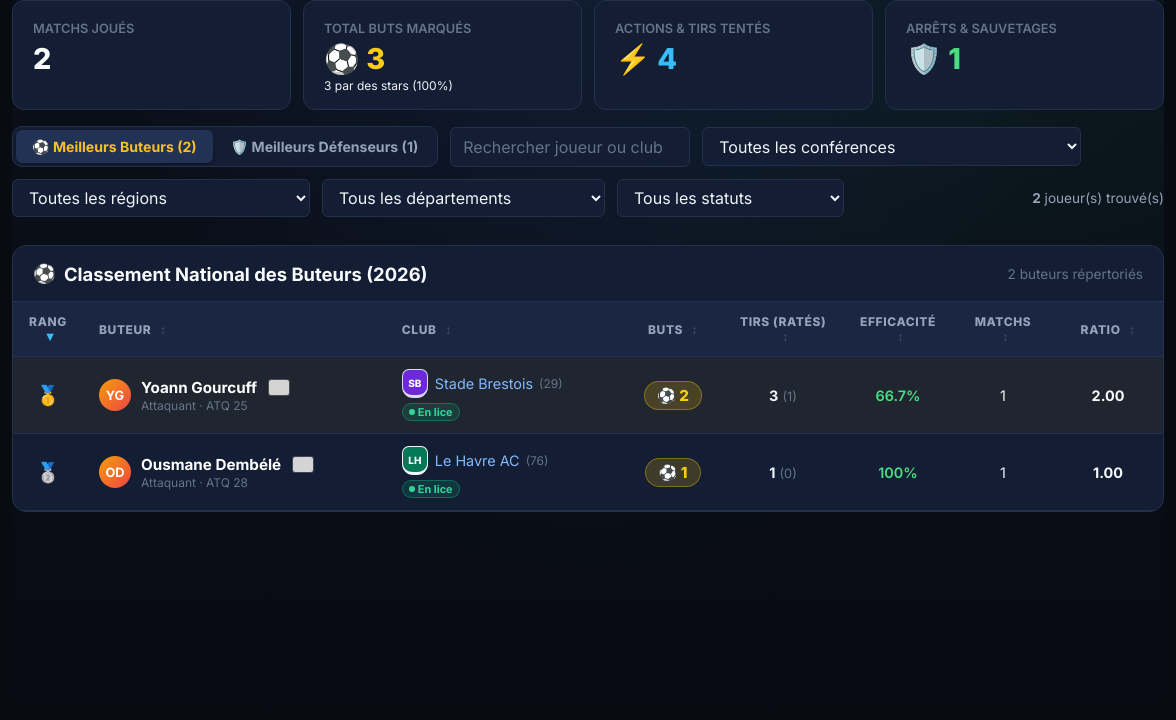
Test: CompetitionStatsView › renders geographic dropdown filters and cascades conference -> region -> department
The width and height of the screenshot is (1176, 720).
Check: the dropdown named "Filtrer par conférence" is shown, box [702,127,1081,166]
Check: the dropdown named "Filtrer par département" is shown, box [322,179,605,217]
Filter by Région Bretagne (53)
Select "Bretagne (53)" in the dropdown named "Filtrer par région" at (161, 198), box [12,179,310,217]
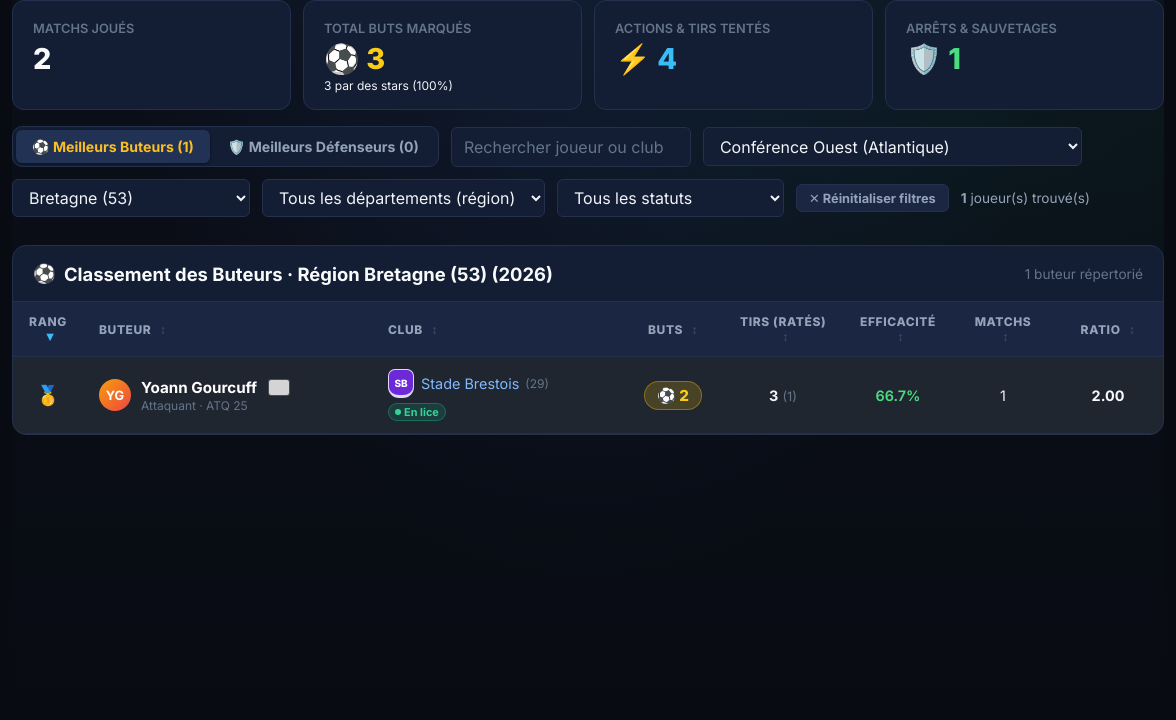
Check: the dropdown named "Filtrer par conférence" shows "Conférence Ouest (Atlantique)", box [703,127,1082,166]
Check: the heading "⚽ Classement des Buteurs · Région Bretagne (53) (2026)" is shown, box [33,262,553,285]
Check: the link "Ousmane Dembélé" is gone
Resetting filters restores both players
Click the button "✕ Réinitialiser filtres" at (872, 198), box [796,184,949,212]
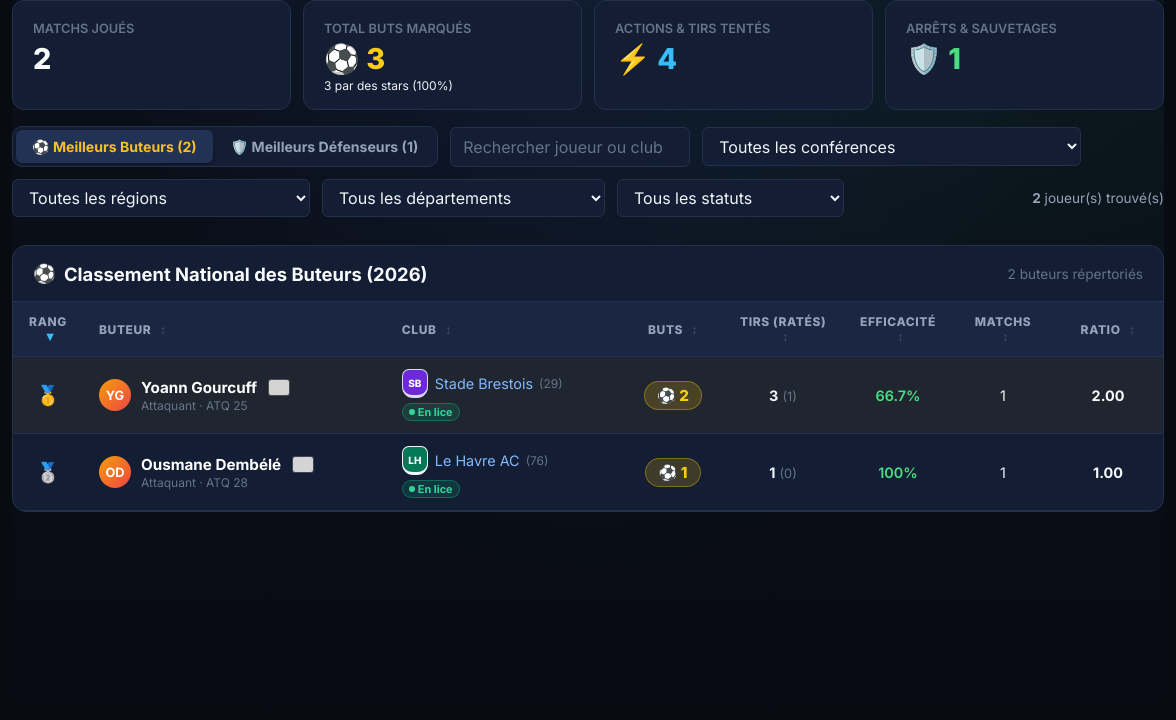
Check: the dropdown named "Filtrer par conférence" shows "Toutes les conférences", box [702,127,1081,166]
Check: the dropdown named "Filtrer par département" shows "Tous les départements", box [322,179,605,217]
Check: the link "Ousmane Dembélé" is shown, box [141,455,281,474]
